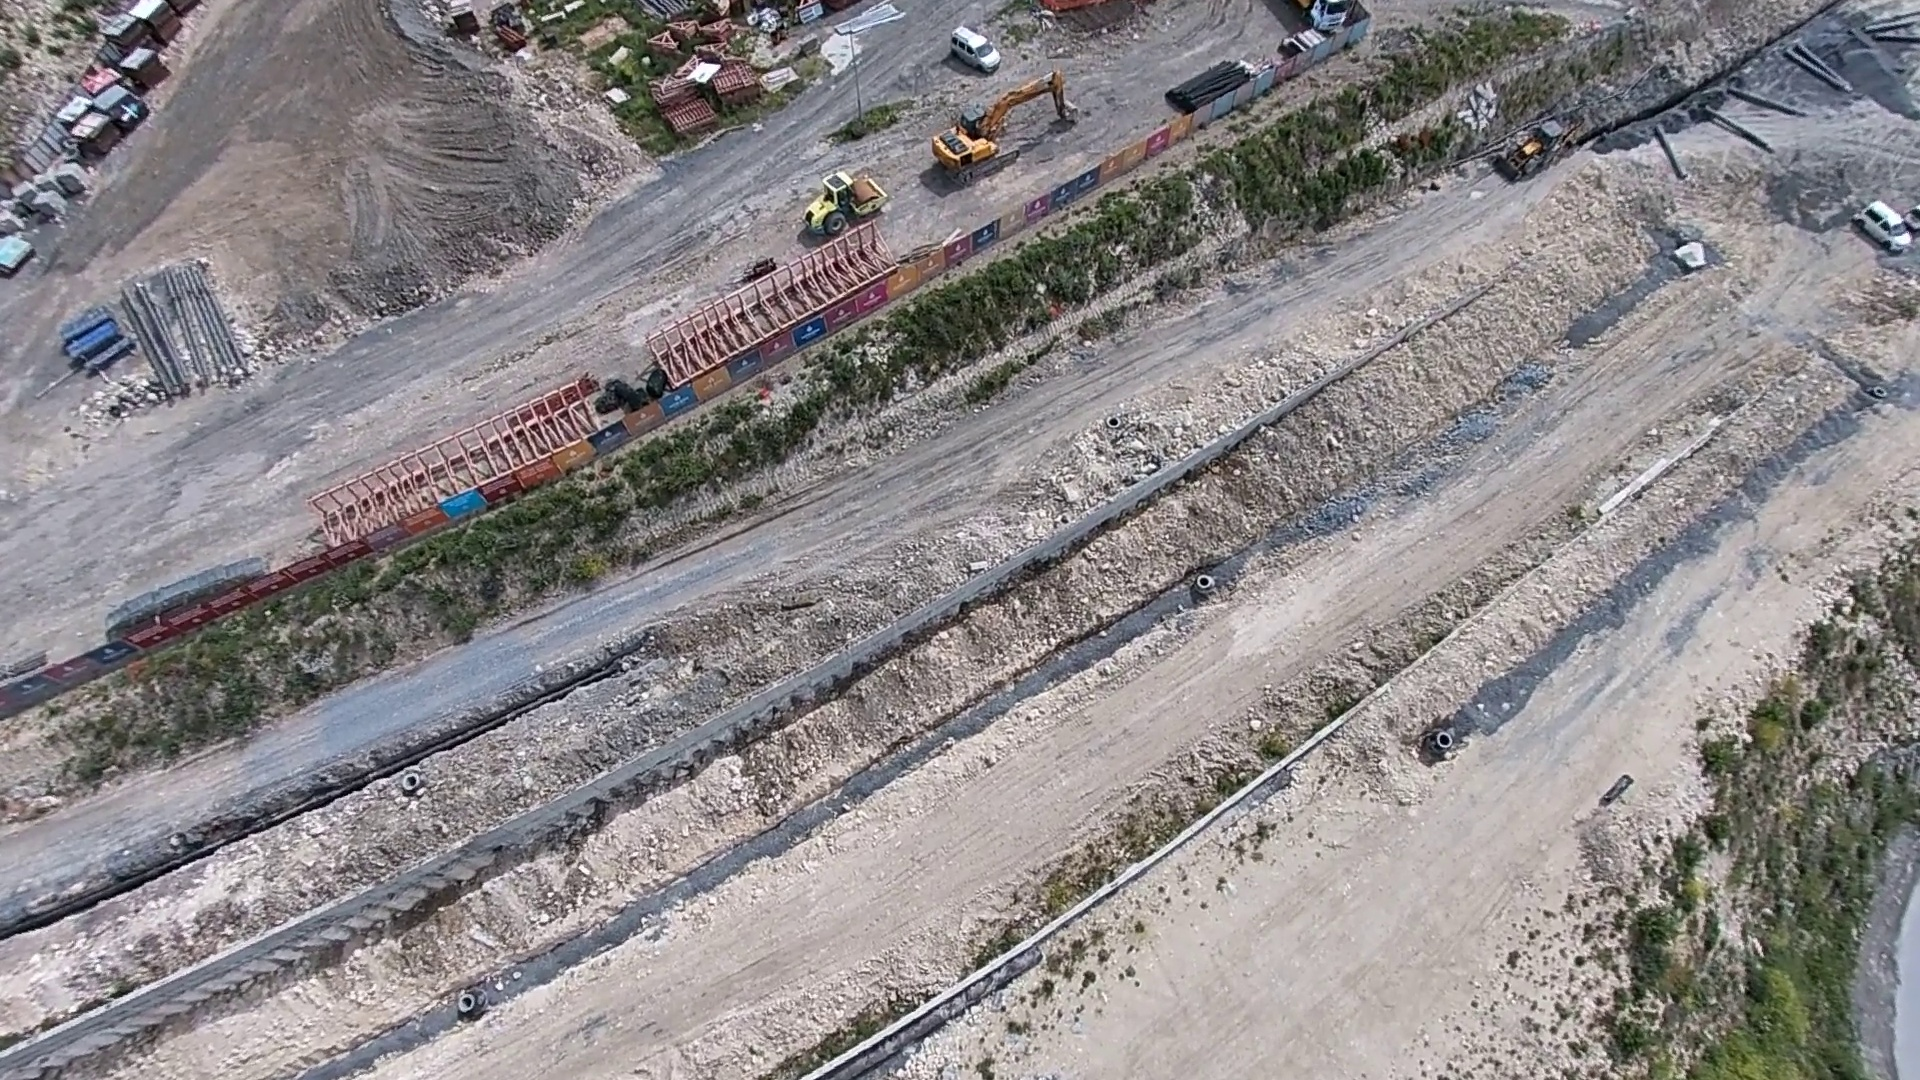arac: (922, 61, 1079, 173), (790, 169, 889, 237), (1495, 117, 1575, 181), (1858, 194, 1916, 258), (936, 24, 1006, 71), (1298, 3, 1352, 34)
